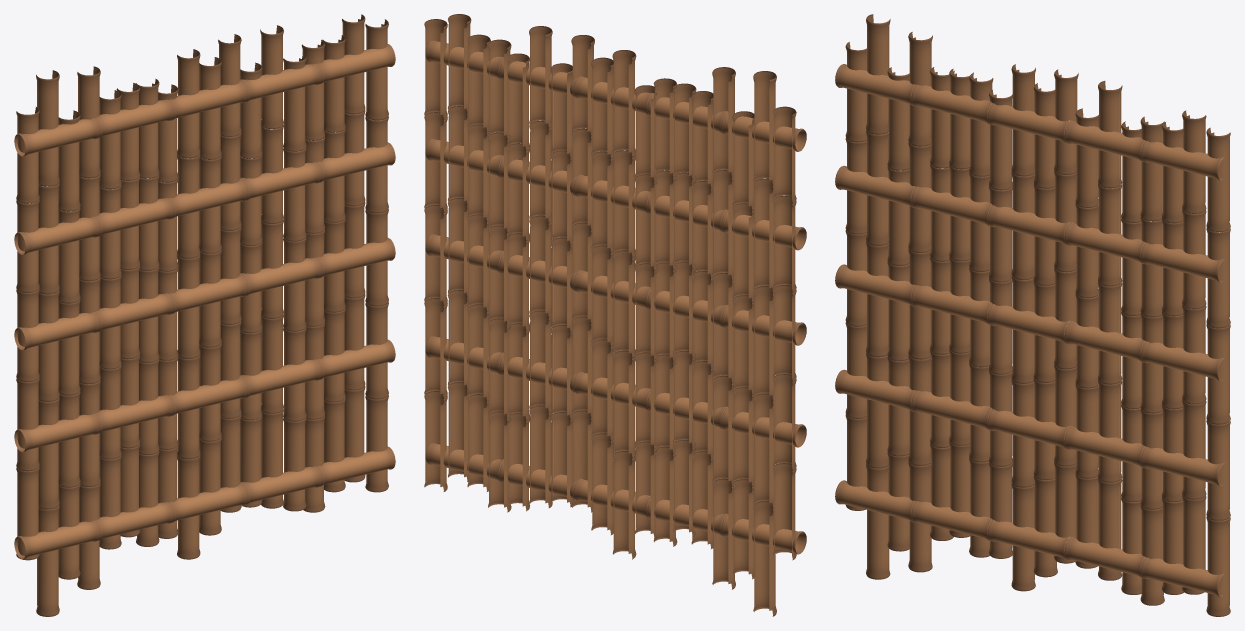
The model's file is driedbamboofence.fbx.
The picture shows the model from 3 angles, left to right: view 1: azimuth 30°, elevation 25°; view 2: azimuth 150°, elevation 25°; view 3: azimuth 330°, elevation 25°; orthographic projection. The views are drawn at different scales.
Visible parts, largest first — view 1: pasted__pasted__pasted__group3_pasted__pasted__group24; view 2: pasted__pasted__pasted__group3_pasted__pasted__group24; view 3: pasted__pasted__pasted__group3_pasted__pasted__group24.
Boxes of the visible parts, <box> form: pasted__pasted__pasted__group3_pasted__pasted__group24: <box>14,14,395,616</box>; pasted__pasted__pasted__group3_pasted__pasted__group24: <box>424,14,806,616</box>; pasted__pasted__pasted__group3_pasted__pasted__group24: <box>835,14,1230,616</box>.
Bounding box in the file's own units: 0.9936 × 1.37 × 0.063.
